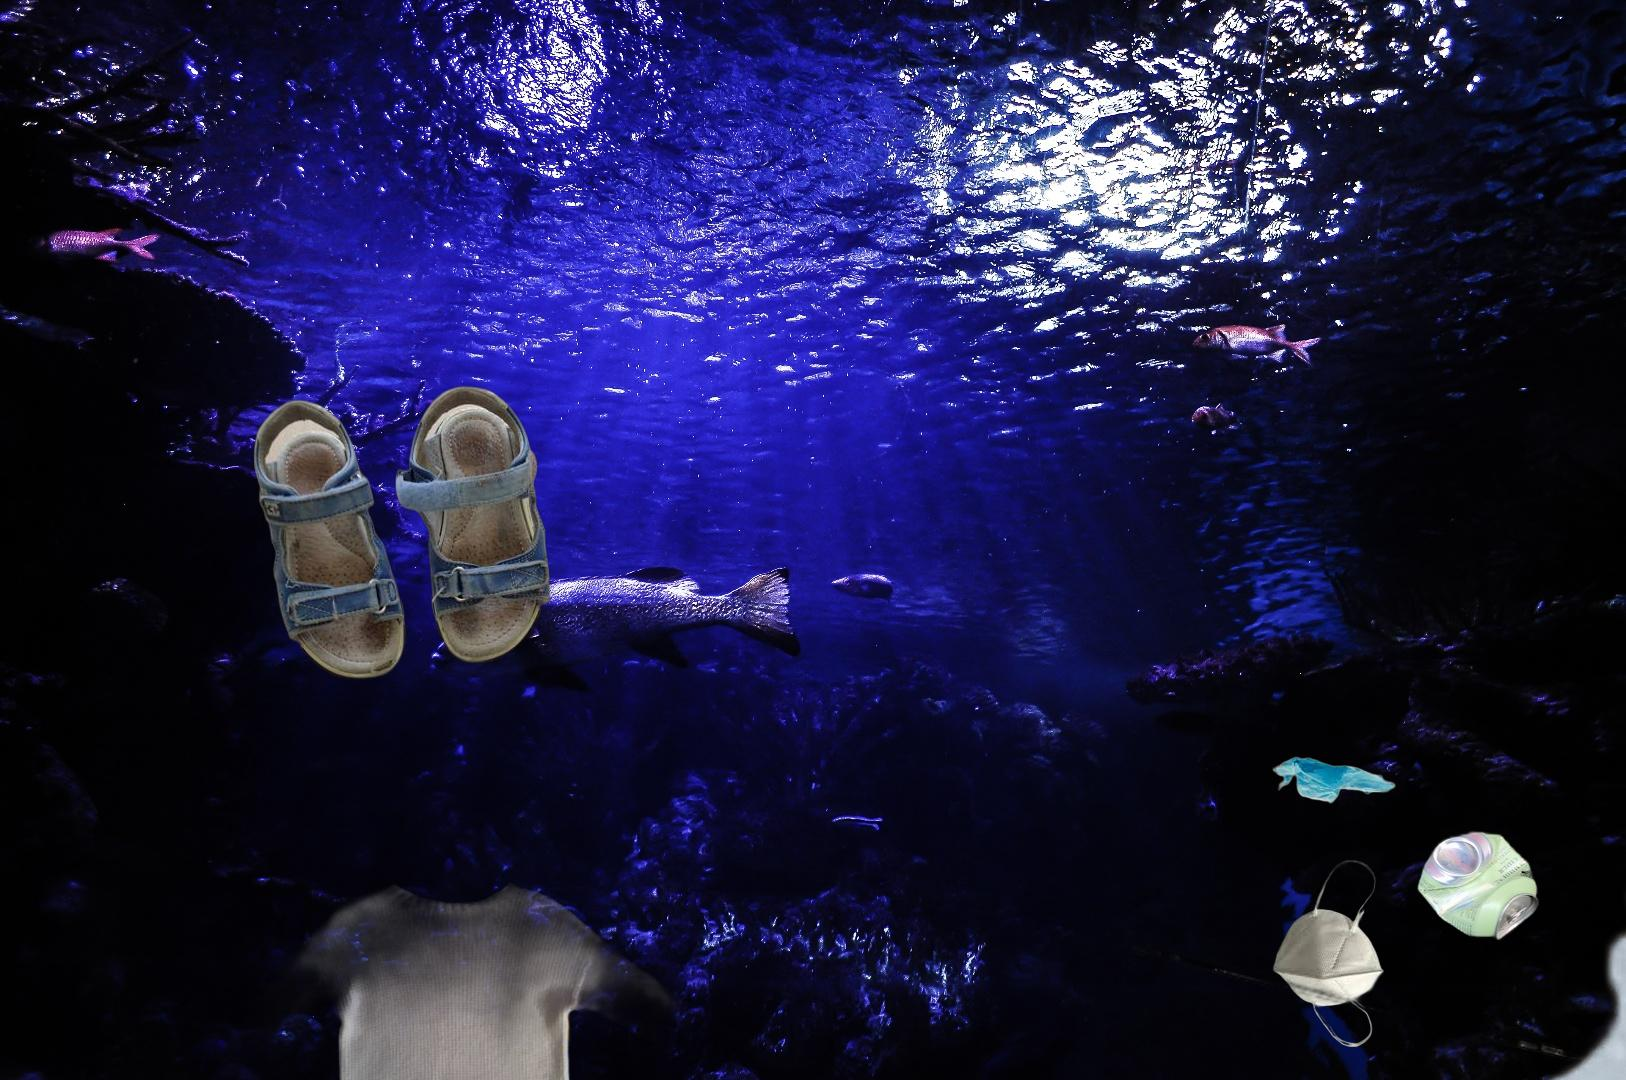clothes: (190, 821, 723, 1080)
metal-cans: (1106, 501, 1619, 1080)
plastic-bag: (1270, 755, 1397, 808)
shoes: (250, 382, 553, 683)
trash: (1270, 857, 1389, 1050)
trashbox-cardboard: (1296, 243, 1626, 1080)
